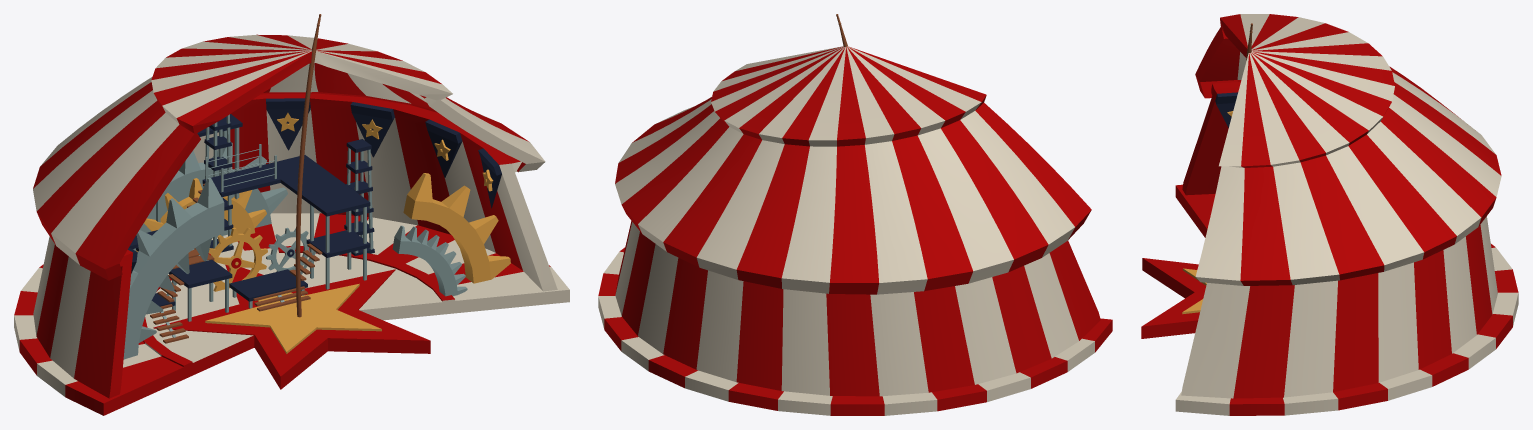
File: circus_03.fbx
The picture shows the model from 3 angles, left to right: view 1: azimuth 30°, elevation 25°; view 2: azimuth 150°, elevation 25°; view 3: azimuth 270°, elevation 25°; orthographic projection. The views are drawn at different scales.
Parts seen in each view (by area): view 1: F_Circus_01, F_Circus_01.004, F_Circus_01.003, F_Circus_01.009, F_Circus_01.002, F_Circus_01.010, F_Circus_01.006, F_Circus_01.008, F_Circus_01.011, F_Circus_01.005, F_Circus_01.007; view 2: F_Circus_01; view 3: F_Circus_01.
Boxes of the visible parts, x1,y1,x2,y2 form: F_Circus_01: [14, 34, 569, 415]; F_Circus_01.004: [123, 177, 224, 359]; F_Circus_01.003: [403, 173, 510, 283]; F_Circus_01.009: [139, 142, 287, 238]; F_Circus_01.002: [392, 225, 467, 296]; F_Circus_01.010: [344, 139, 374, 255]; F_Circus_01.006: [208, 227, 267, 291]; F_Circus_01.008: [136, 178, 266, 251]; F_Circus_01.011: [204, 114, 233, 252]; F_Circus_01.005: [295, 14, 321, 317]; F_Circus_01.007: [266, 227, 309, 271]; F_Circus_01: [598, 46, 1112, 415]; F_Circus_01: [1141, 14, 1518, 415].
Size of the model in its own units: 3676 by 2239 by 2623.
